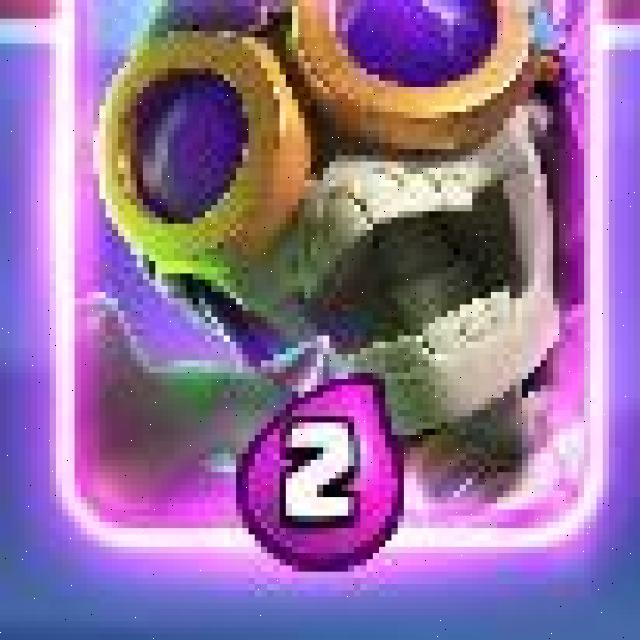Evolved_Bomber: (54, 0, 607, 551)
